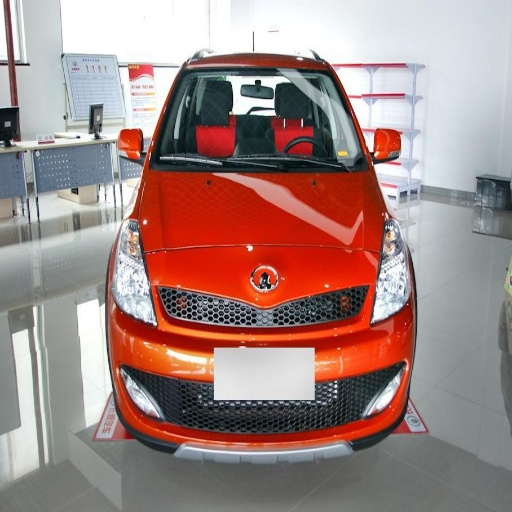front_bumper: (114, 280, 414, 458)
hood: (150, 172, 381, 291)
